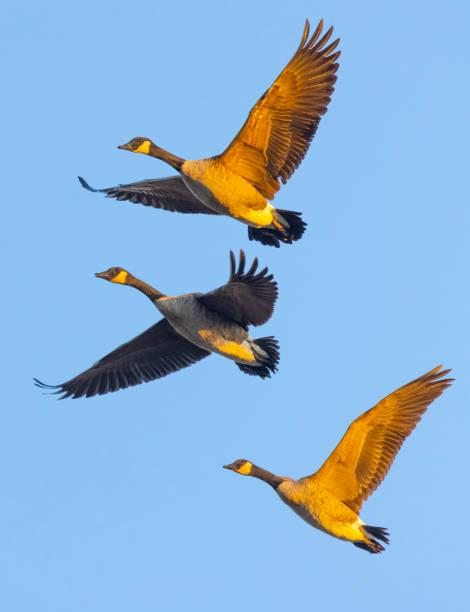Canadian-Goose: (81, 16, 342, 240), (224, 362, 449, 560), (36, 249, 286, 397)
